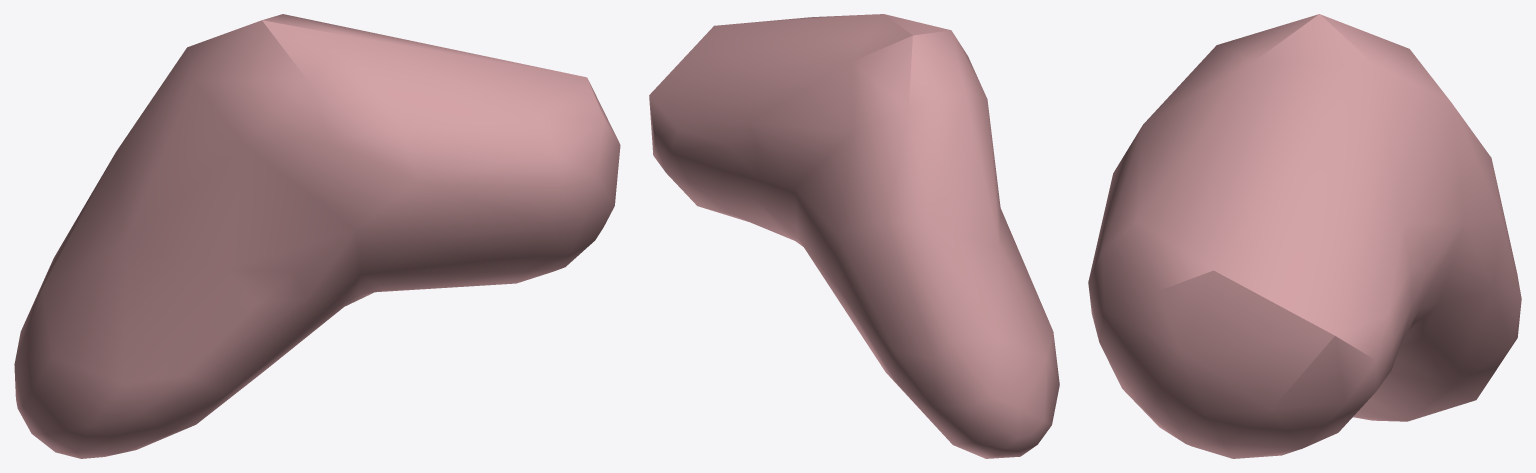
File: fma14964_fj2600.glb
3 views of the same model, side by side, from view 1: azimuth 30°, elevation 25°; view 2: azimuth 150°, elevation 25°; view 3: azimuth 270°, elevation 25° (orthographic). The views are drawn at different scales.
Parts seen in each view (by area): view 1: FMA14964_FJ2600; view 2: FMA14964_FJ2600; view 3: FMA14964_FJ2600.
Part boxes in pixels (bbox=[...]): FMA14964_FJ2600: bbox=[14, 14, 620, 458]; FMA14964_FJ2600: bbox=[649, 14, 1059, 458]; FMA14964_FJ2600: bbox=[1088, 14, 1521, 458].
Size of the model in its own units: 0.0439 by 0.0349 by 0.0287.
